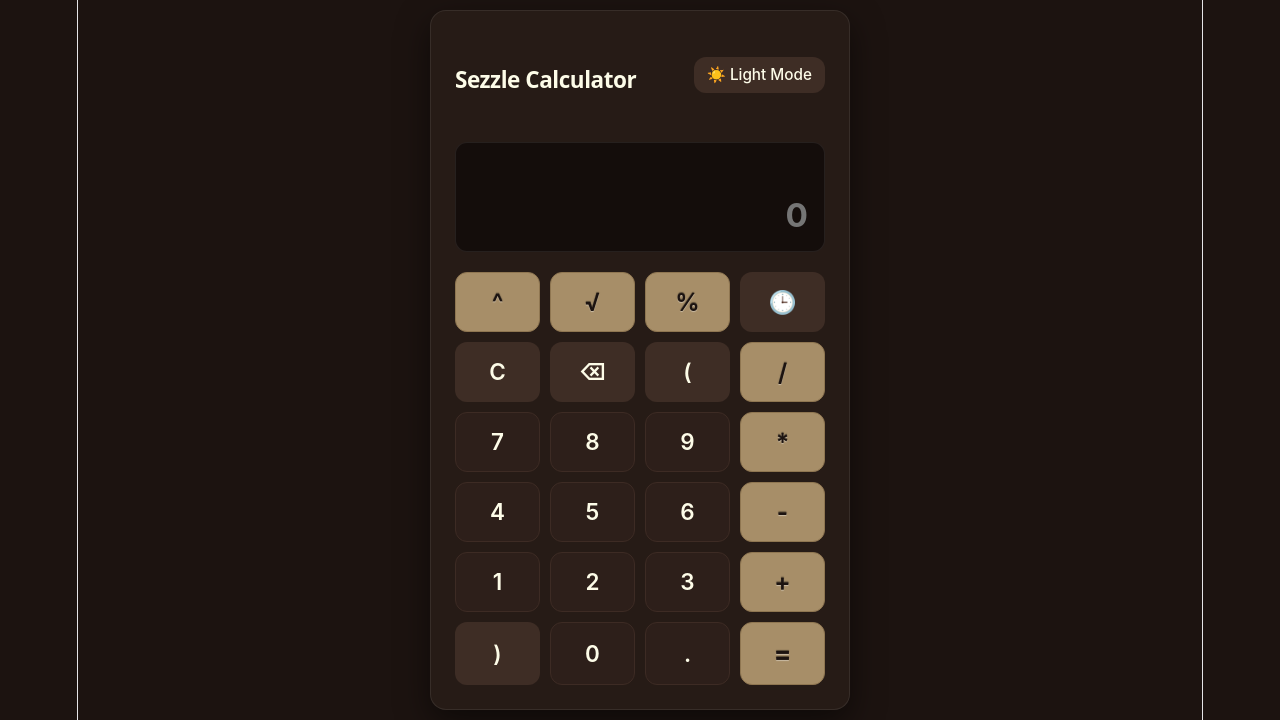
Scenario: Calculator History Functionality › stores operations in history and loads into input when clicked
Type "10+20" into the field named "calculator input".
click(640, 214); type("10+20")  # box [472,194,808,234]
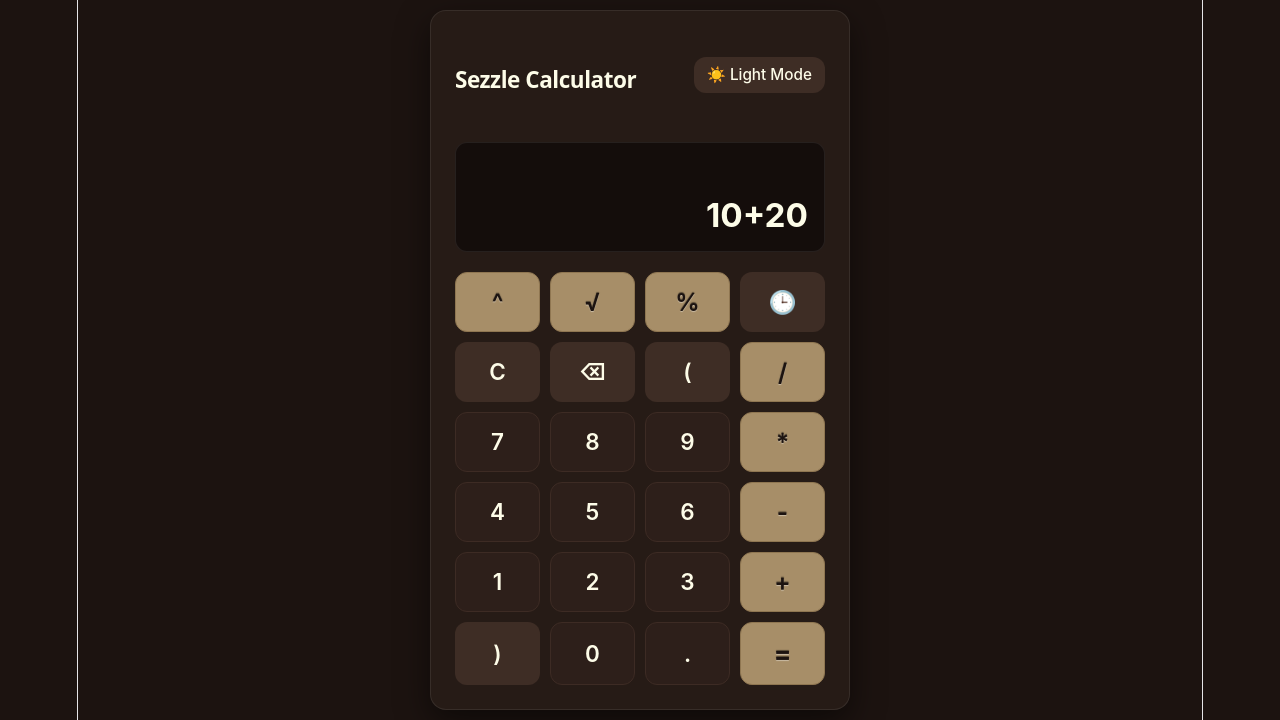
Click the button named "calculate result".
click(782, 653)  # box [740,622,825,684]
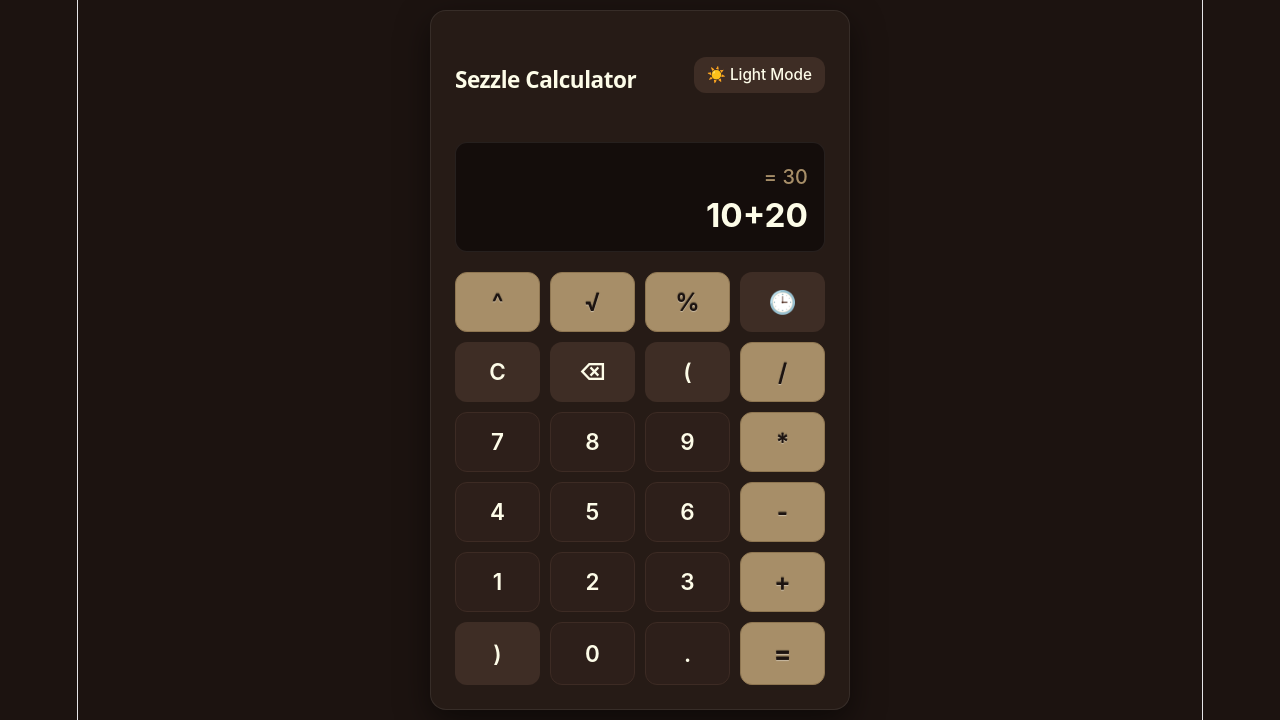
# Clear input
Click the button named "clear expression".
click(498, 372)  # box [455,342,540,402]
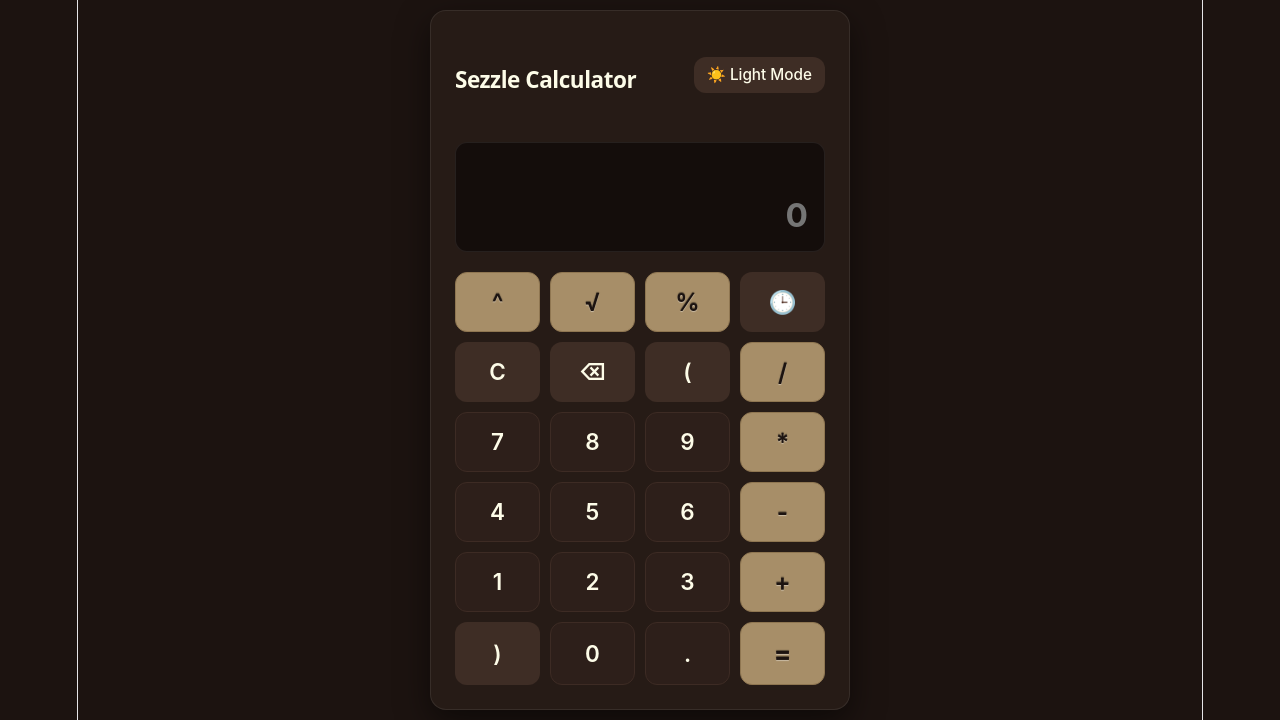
expect the field named "calculator input" is empty: met, box [472,194,808,234]
# Open history modal
Click the button named "open history".
click(782, 302)  # box [740,272,825,332]
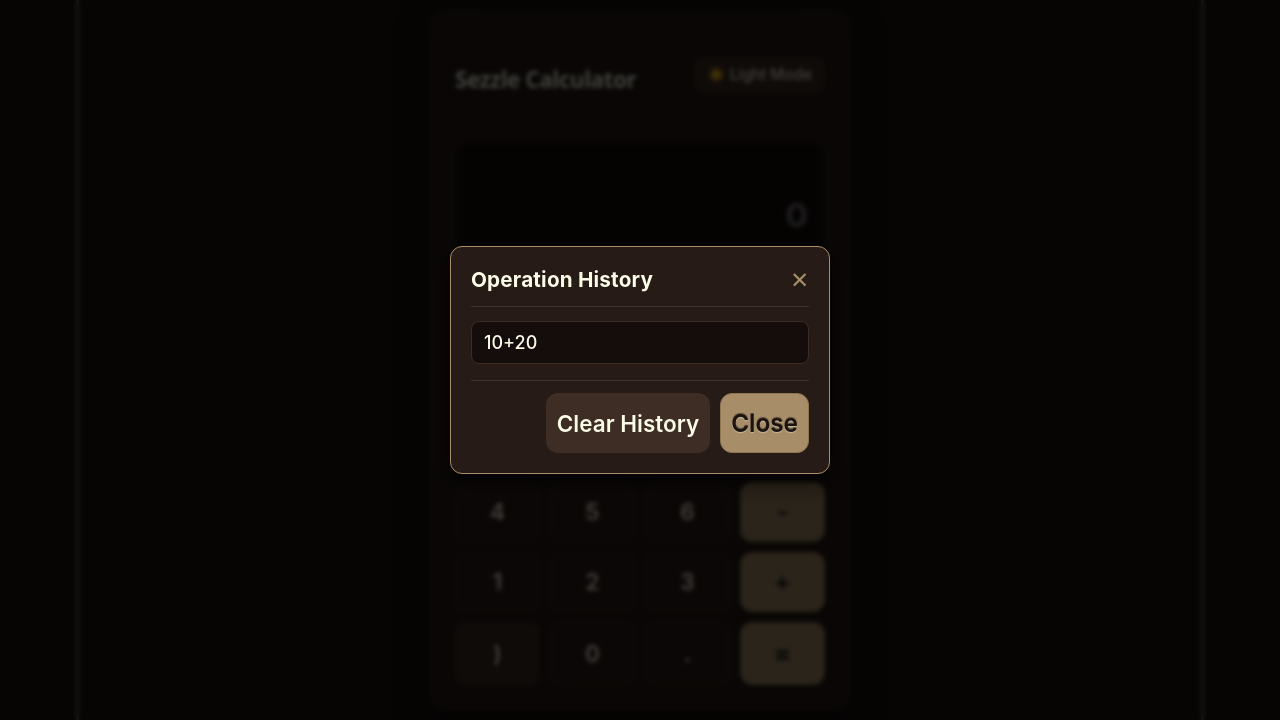
expect the heading "Operation History" is shown: met, box [471,268,653,294]
expect the button "10+20" is shown: met
# Click history entry
Click the button "10+20".
click(511, 342)  # box [471,321,809,364]
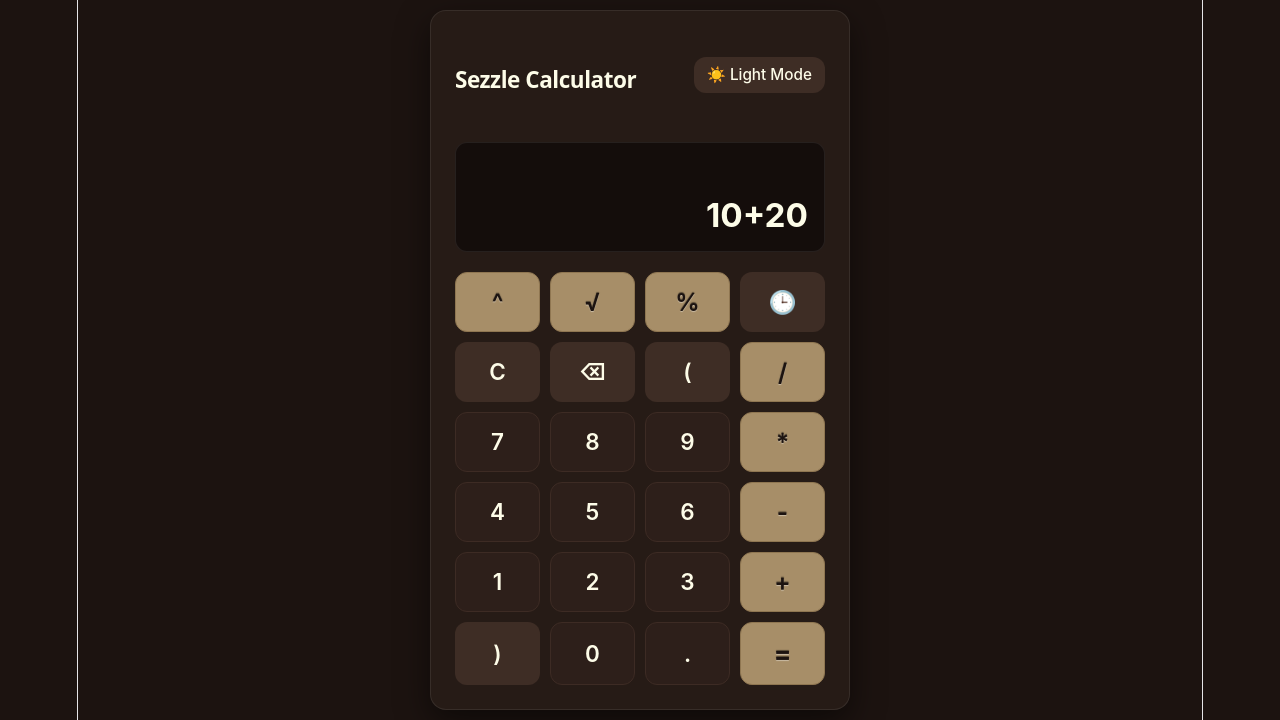
expect the heading "Operation History" is gone: met
